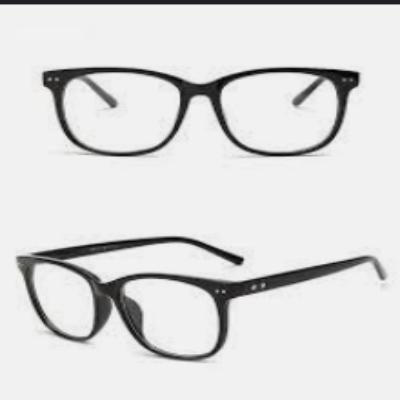glasses: (13, 233, 389, 360), (41, 63, 365, 161)
